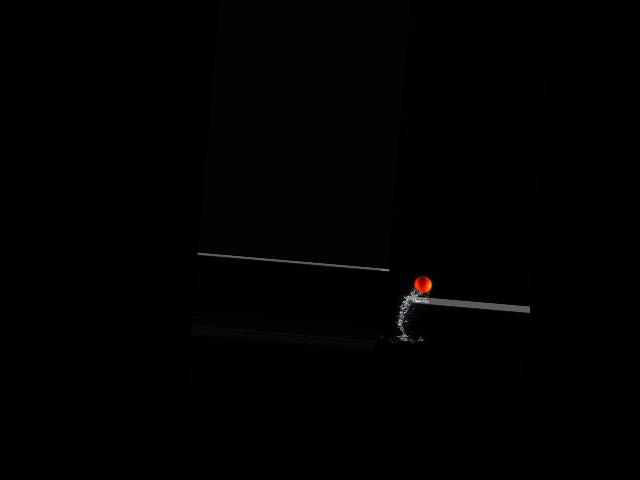tomato: (413, 276, 432, 293)
